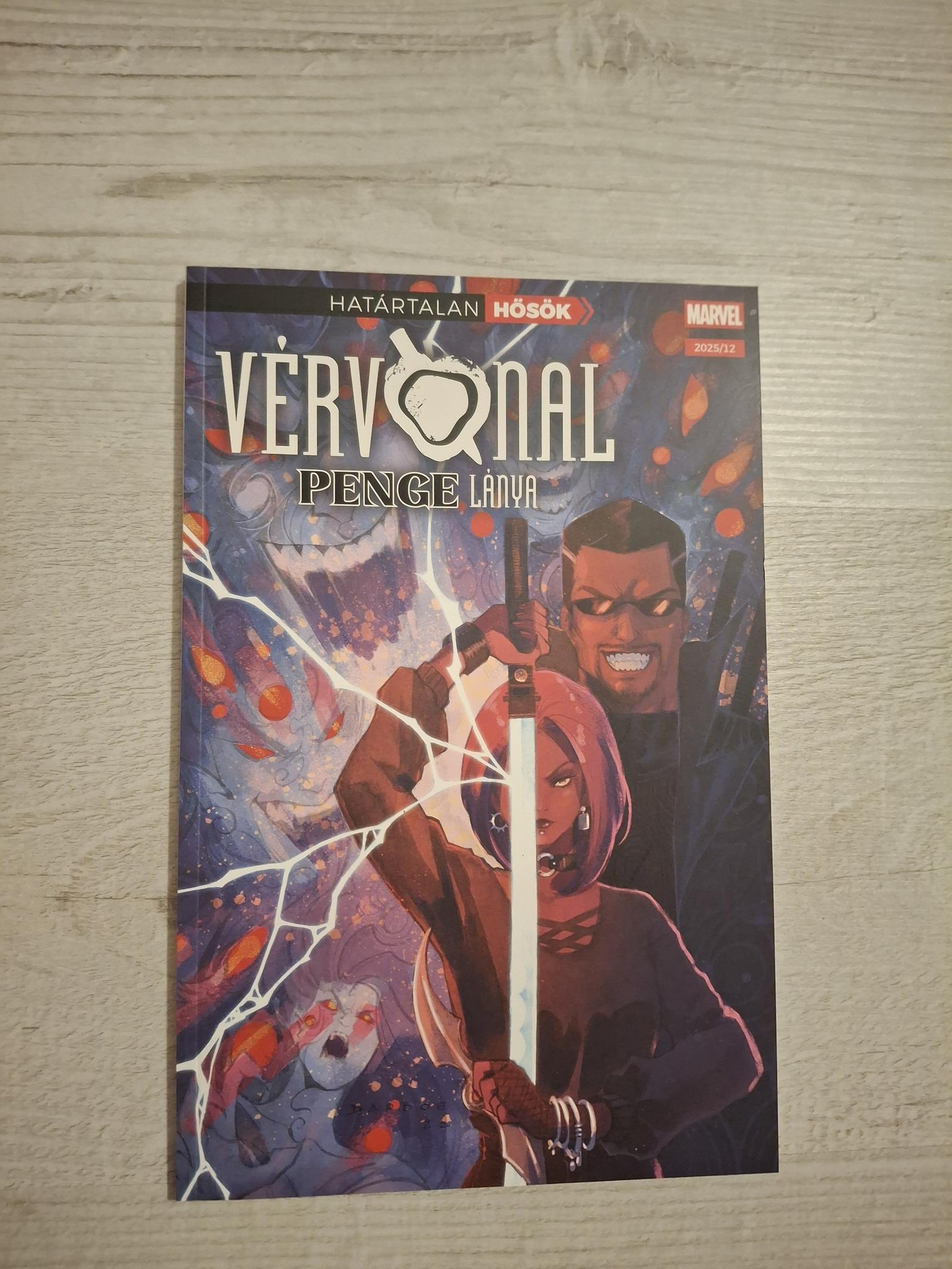comic: (176, 268, 779, 1200)
